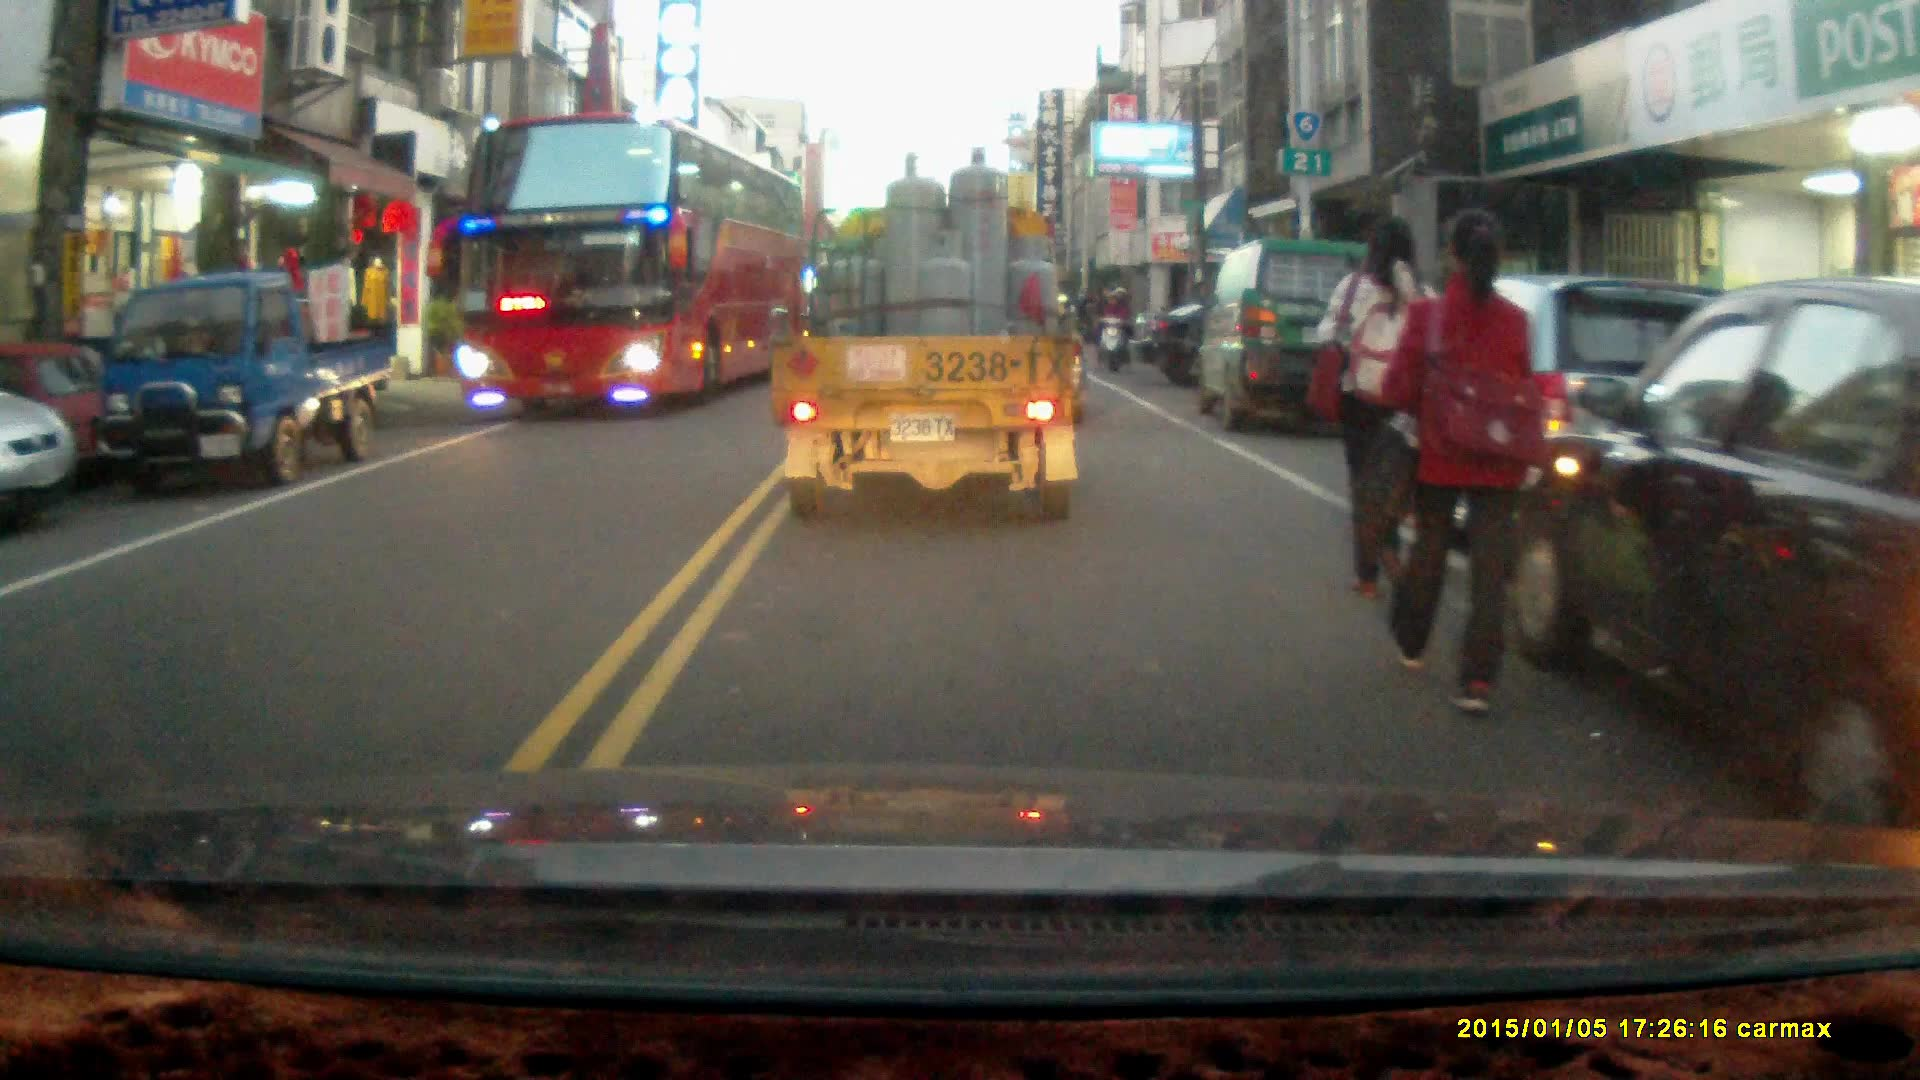pedestrian: (1378, 204, 1543, 717), (1322, 208, 1446, 609)
rider: (1093, 283, 1134, 371)
vehicle: (1496, 276, 1920, 828), (767, 143, 1087, 521), (449, 111, 807, 420), (97, 272, 389, 489), (1200, 235, 1394, 427), (1132, 298, 1423, 393), (1, 384, 78, 522)
